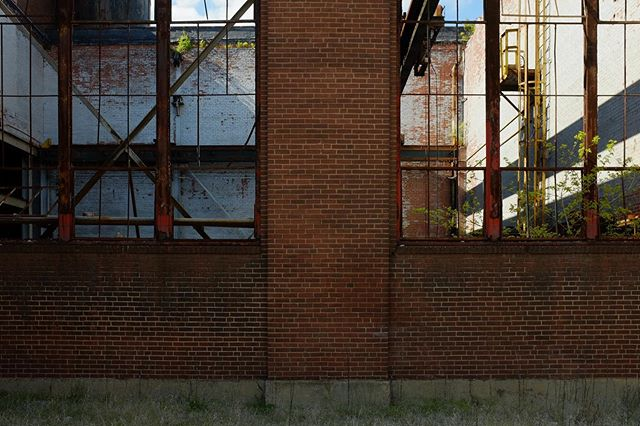building: (51, 22, 458, 237)
window: (384, 1, 640, 240), (1, 1, 255, 240)
